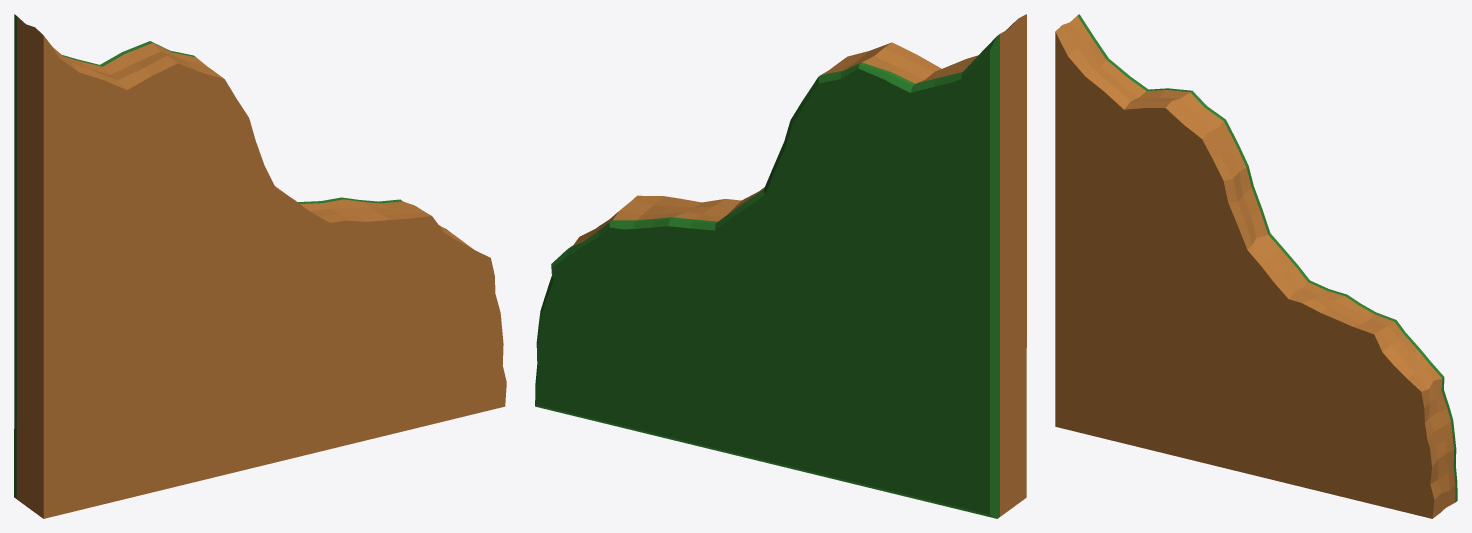
The model's file is corner2.fbx.
3 renders of one model, left to right at view 1: azimuth 30°, elevation 25°; view 2: azimuth 150°, elevation 25°; view 3: azimuth 330°, elevation 25°, orthographic. The views are drawn at different scales.
Visible parts, largest first — view 1: corner2; view 2: corner2; view 3: corner2.
Boxes of the visible parts, left/top/right/bottom form: corner2: left=14, top=14, right=506, bottom=518; corner2: left=535, top=14, right=1026, bottom=518; corner2: left=1055, top=14, right=1457, bottom=518.
Bounding box in the file's own units: 2009 × 2009 × 248.
